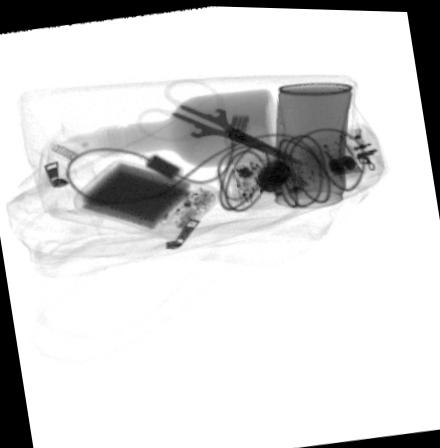Powerbank: (73, 158, 223, 243)
Scissors: (136, 75, 311, 167)
